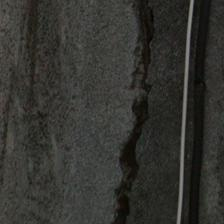Crack: (54, 3, 107, 221)
